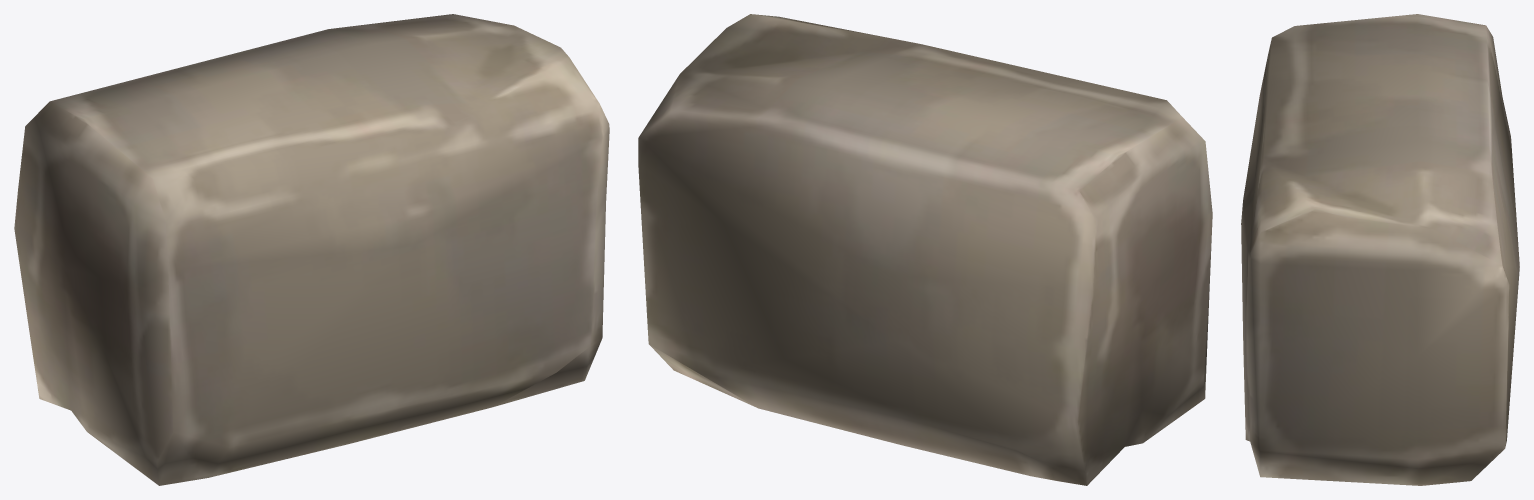
Rendered from Prop_Brick3.glb.
3 renders of one model, left to right at view 1: azimuth 30°, elevation 25°; view 2: azimuth 150°, elevation 25°; view 3: azimuth 270°, elevation 25°, orthographic. The views are drawn at different scales.
Parts seen in each view (by area): view 1: Prop_Brick3; view 2: Prop_Brick3; view 3: Prop_Brick3.
Part boxes in pixels (x1,y1,x2,y2): Prop_Brick3: (14, 14, 609, 485); Prop_Brick3: (638, 14, 1212, 485); Prop_Brick3: (1241, 14, 1519, 485).
Size of the model in its own units: 0.3814 by 0.2497 by 0.2156.
1 material, 1 textured.
